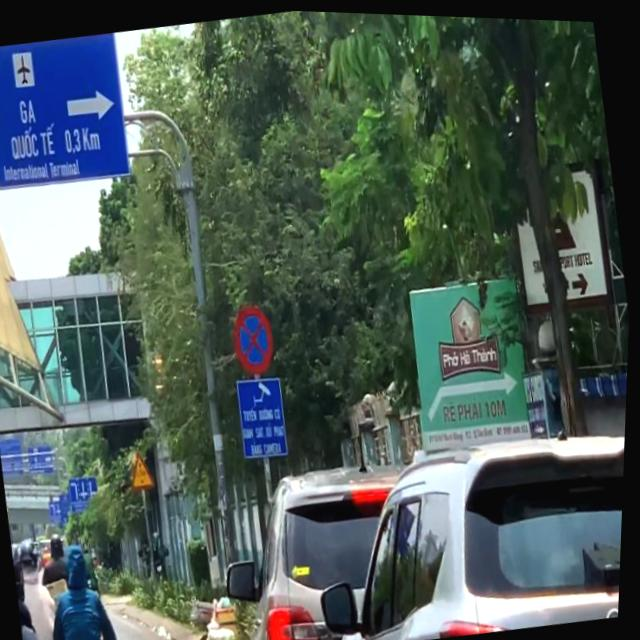Cam dung xe va do xe: (228, 297, 284, 378)
Chieu cao an toan: (129, 446, 161, 491)
